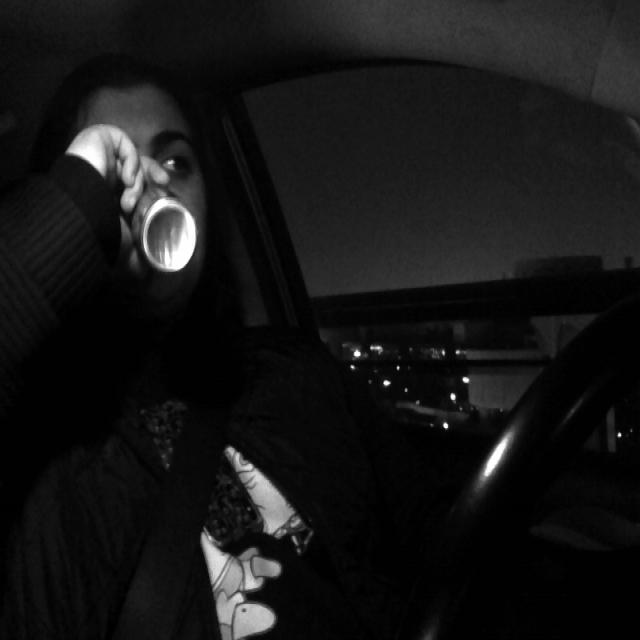drinking: (120, 176, 206, 285)
